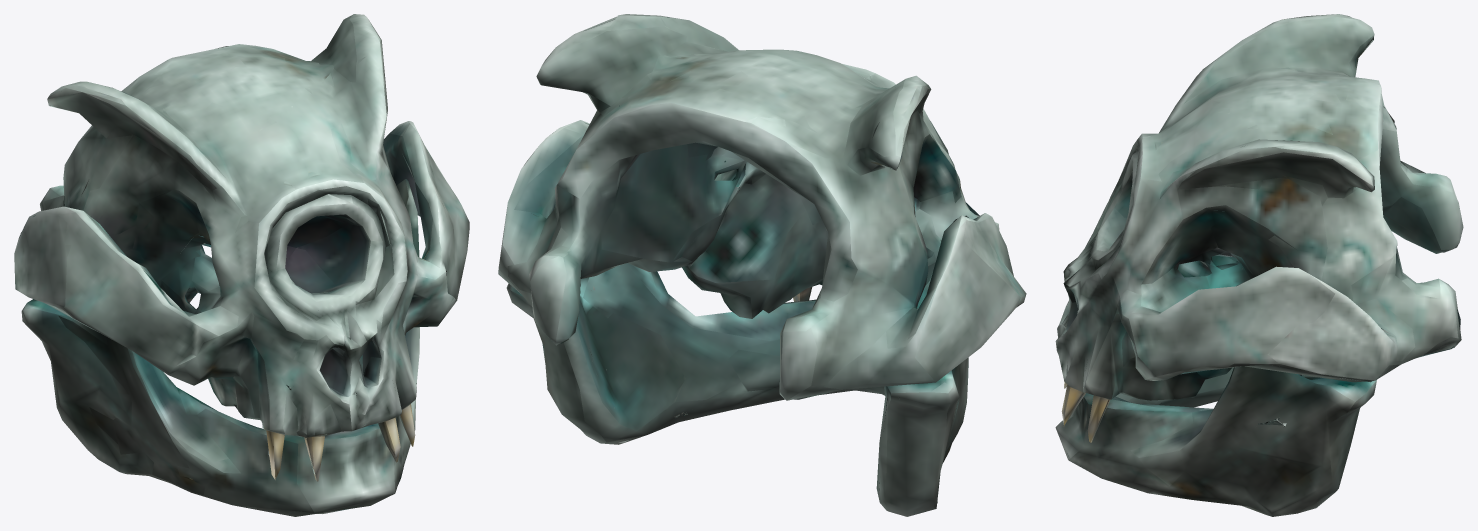
File: cyclopean-tide-grazer-skull-optimized.glb
3 views of the same model, side by side, from view 1: azimuth 30°, elevation 25°; view 2: azimuth 150°, elevation 25°; view 3: azimuth 270°, elevation 25° (orthographic). The views are drawn at different scales.
Parts seen in each view (by area): view 1: geometry_0; view 2: geometry_0; view 3: geometry_0.
Boxes of the visible parts, x1,y1,x2,y2 form: geometry_0: (14,14,469,516); geometry_0: (498,14,1026,516); geometry_0: (1055,14,1463,516).
Bounding box in the file's own units: 0.3958 × 0.348 × 0.3451.
1 material, 1 textured.
